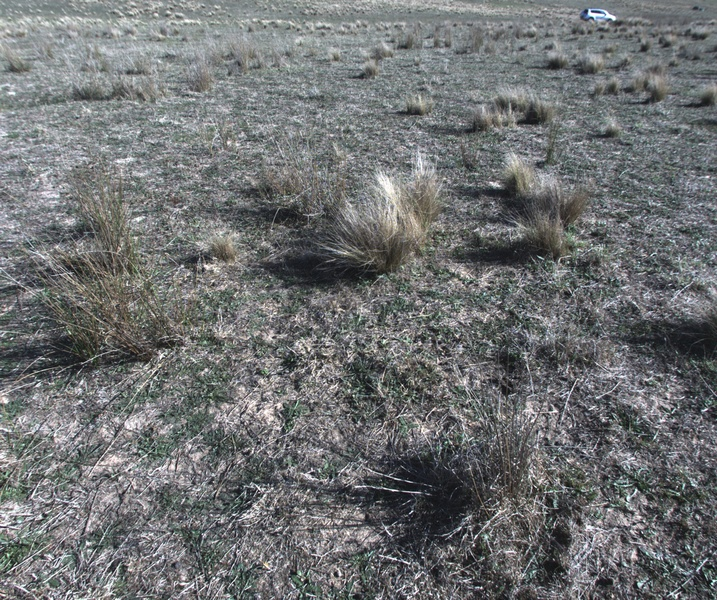st: (338, 177, 436, 267), (538, 193, 580, 259), (196, 229, 245, 266), (503, 163, 535, 192), (491, 81, 522, 108), (77, 52, 108, 74), (525, 99, 551, 122), (400, 94, 433, 112), (693, 78, 717, 100), (582, 50, 604, 73), (130, 56, 155, 76), (372, 35, 392, 60), (596, 120, 622, 137), (645, 80, 665, 102), (545, 53, 565, 75), (325, 43, 348, 61), (358, 58, 378, 78), (637, 31, 650, 51), (661, 34, 680, 47)
